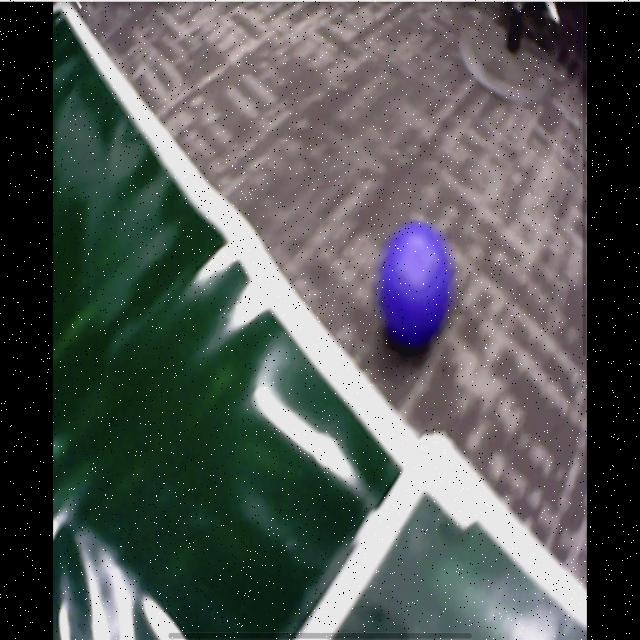ball: (379, 221, 451, 347)
